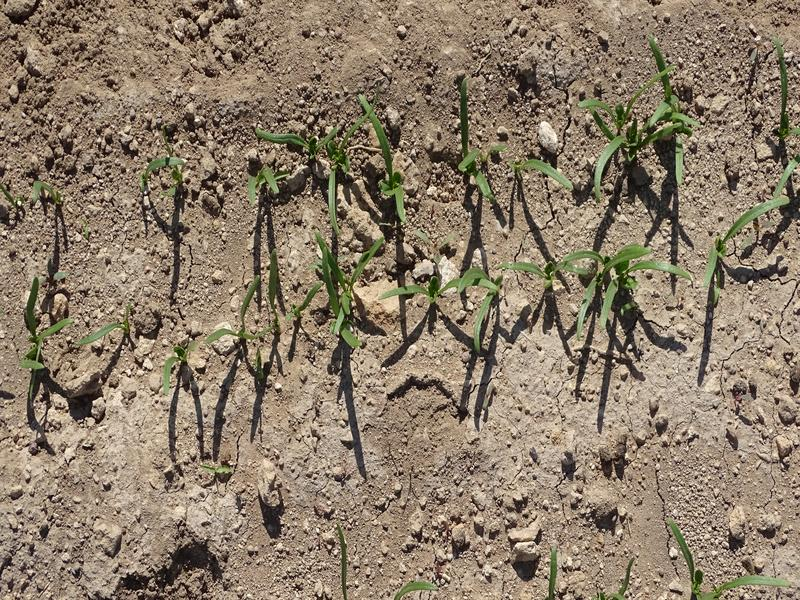Espinaca: (507, 235, 679, 333), (254, 115, 412, 219), (590, 41, 692, 189), (290, 232, 389, 347), (157, 282, 267, 382), (711, 167, 796, 283), (17, 299, 134, 370), (395, 264, 495, 342), (448, 88, 499, 203), (773, 44, 798, 140), (137, 151, 190, 195)
